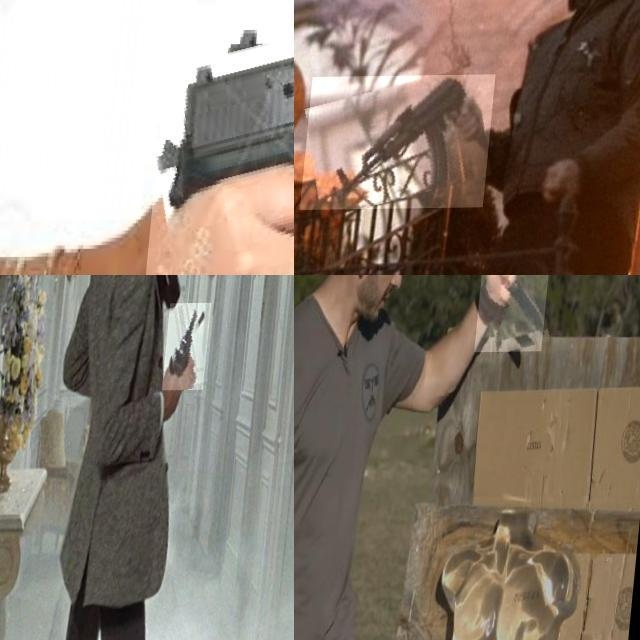-: (479, 275, 555, 353)
gun-knife-thesis - v11 Yolov5 augmented: (141, 0, 294, 275), (308, 76, 500, 210), (168, 304, 216, 392)
